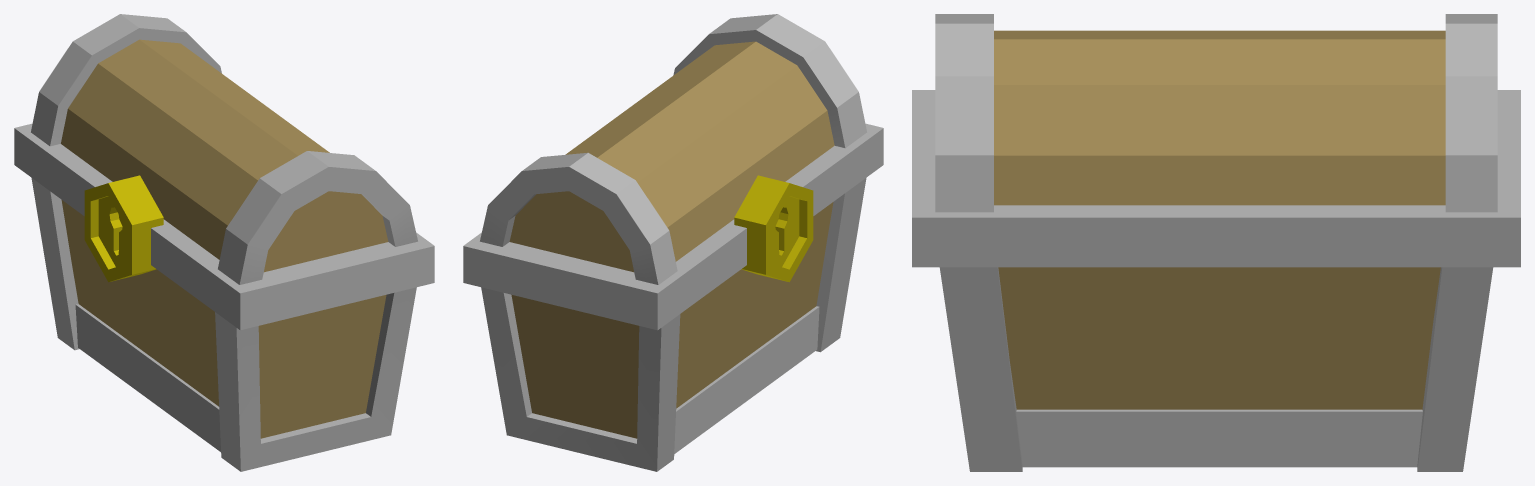
3 renders of one model, left to right at view 1: azimuth 30°, elevation 25°; view 2: azimuth 150°, elevation 25°; view 3: azimuth 270°, elevation 25°, orthographic. The views are drawn at different scales.
Parts seen in each view (by area): view 1: Box_v1_001; view 2: Box_v1_001; view 3: Box_v1_001.
Boxes of the visible parts, x1,y1,x2,y2 form: Box_v1_001: (14,14,434,471); Box_v1_001: (463,14,883,471); Box_v1_001: (912,14,1520,471).
Bounding box in the file's own units: 58.63 × 77.77 × 108.
